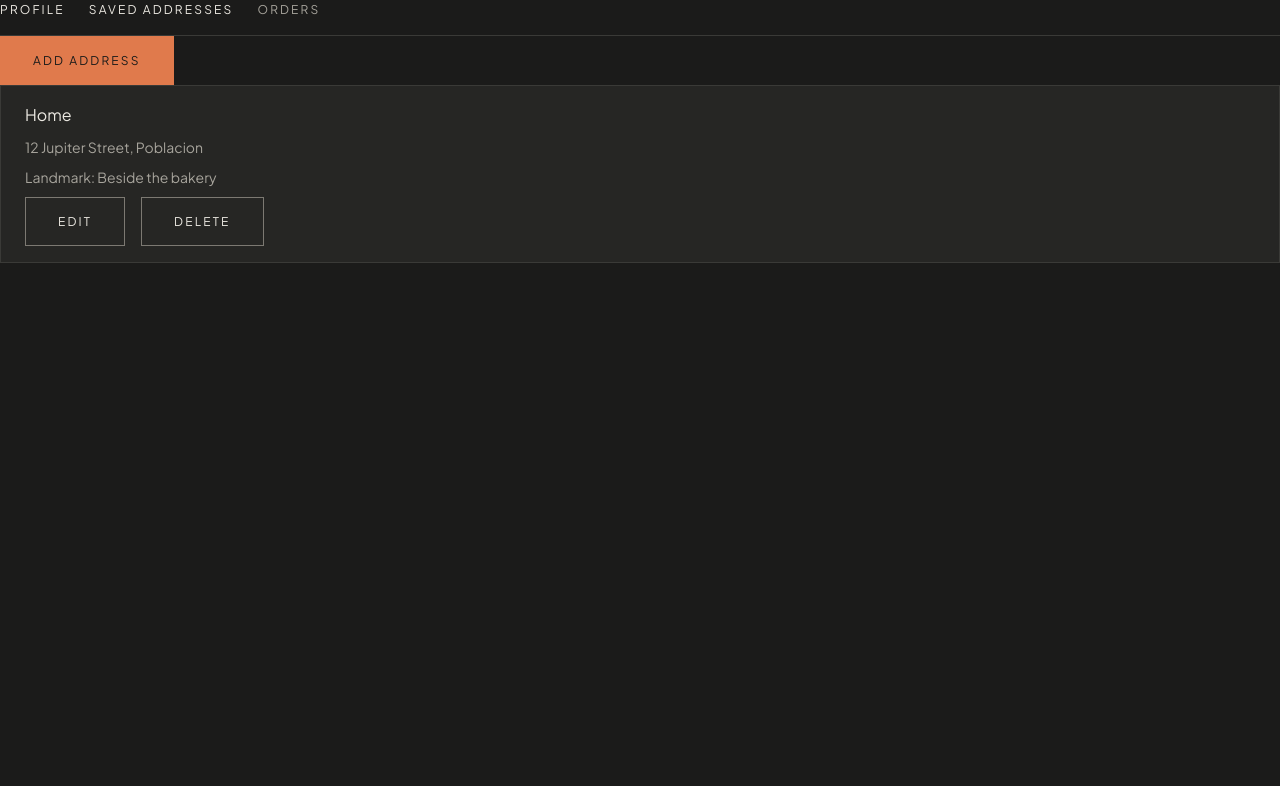
Test: AddressBook › edits a saved address
Expected: the button "Add address" is shown, top-left (0, 36), bottom-right (174, 85)
Click the button with aria-label "Edit Home".
click(75, 221)  # box top-left (25, 197), bottom-right (125, 246)
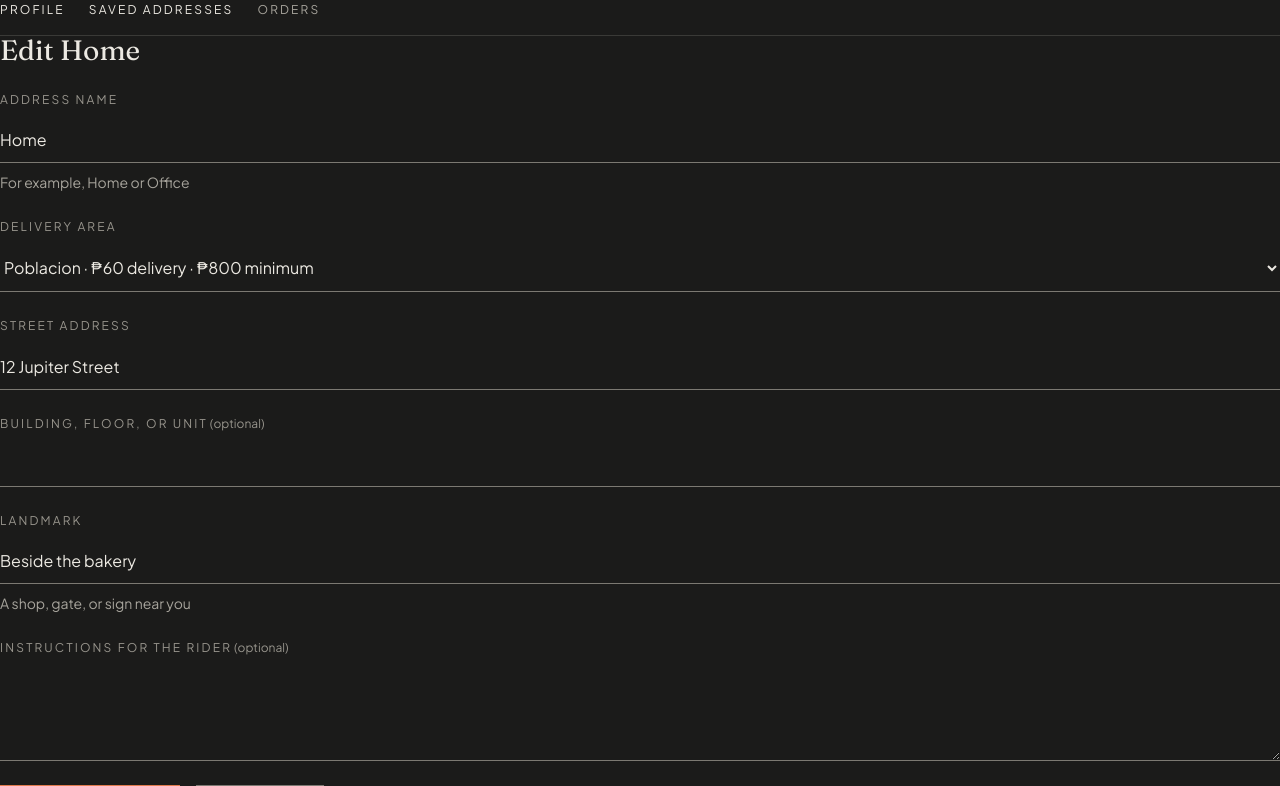
Expected: the heading "Edit Home" is shown, top-left (0, 33), bottom-right (140, 67)
Expected: the field labelled "Address name" holds "Home"
Replace the text in the field labelled "Address name" with "Condo" at (640, 140), box top-left (0, 117), bottom-right (1279, 163)
(page scrolled)
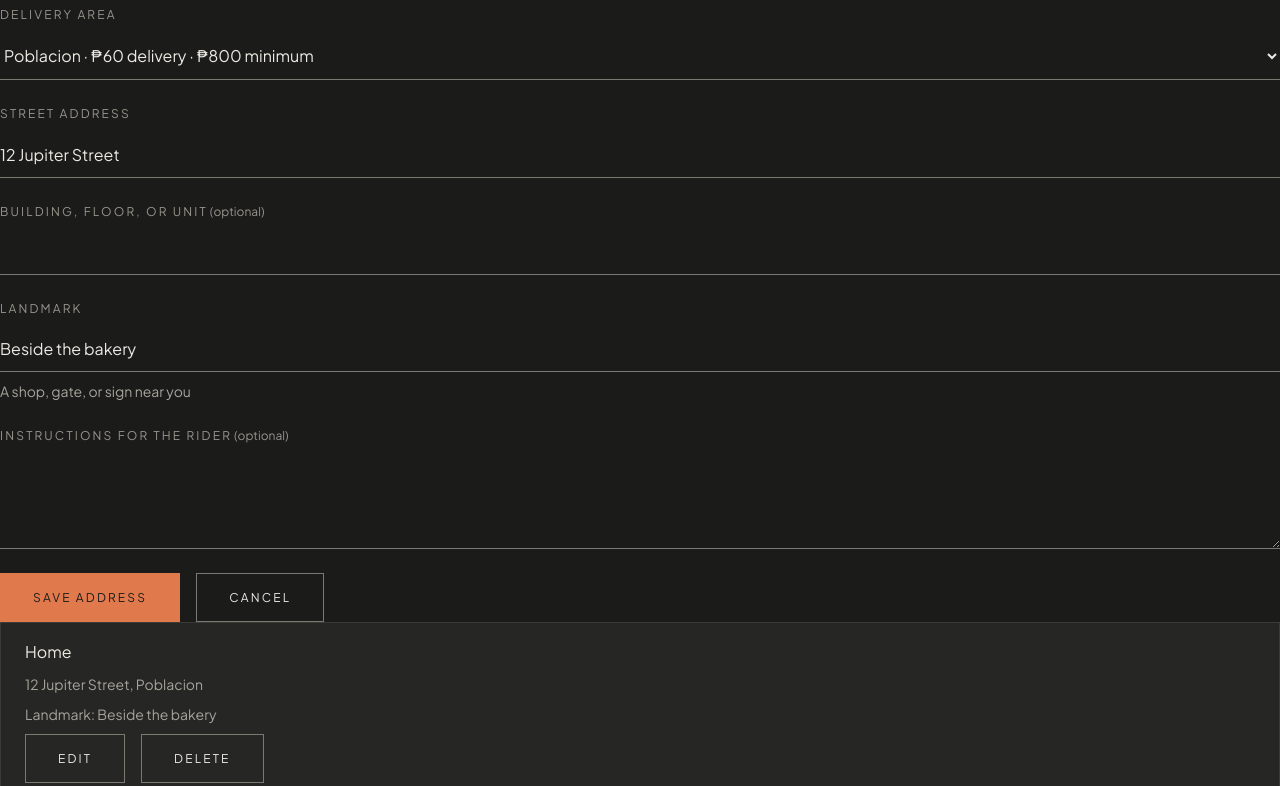
Click the button "Save address".
click(90, 598)  # box top-left (0, 574), bottom-right (180, 622)
(page scrolled)
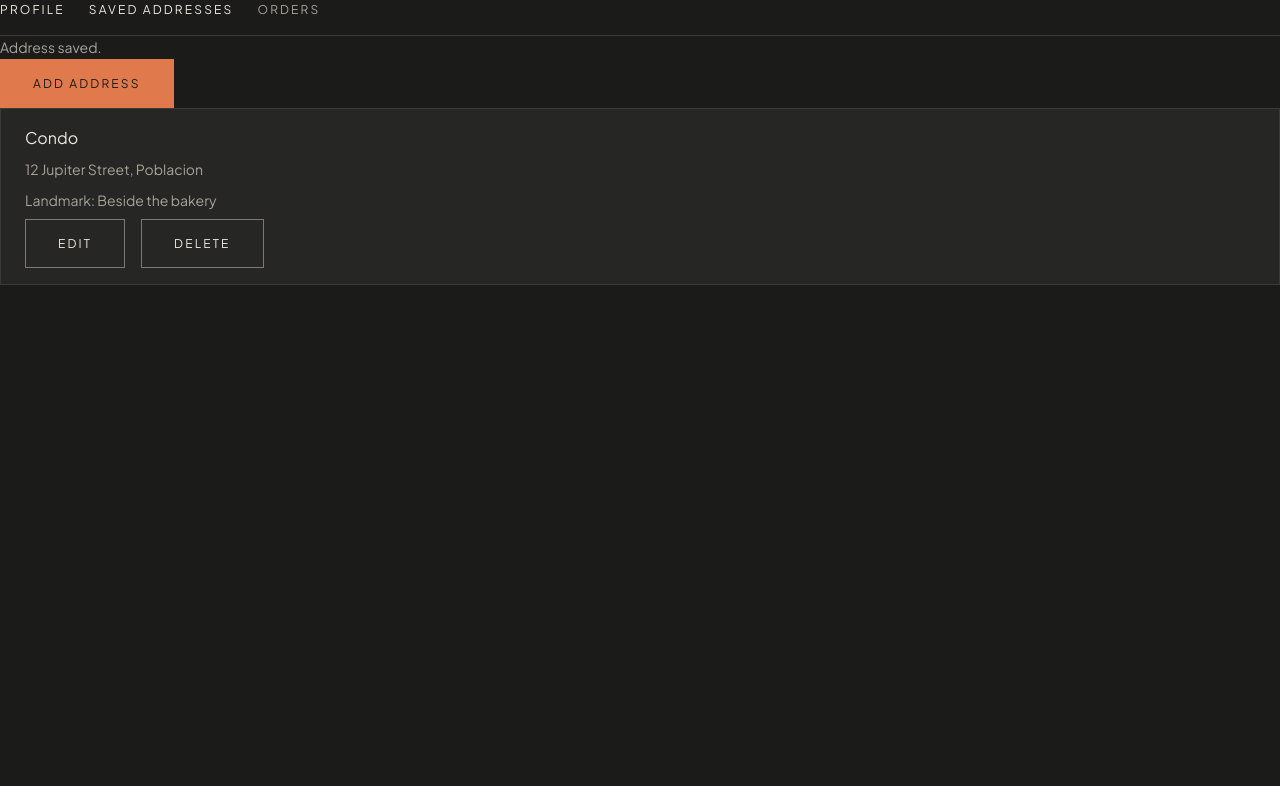
Expected: the text "Address saved." is shown, top-left (0, 38), bottom-right (102, 56)
Expected: the text "Condo" is shown, top-left (25, 127), bottom-right (78, 148)
